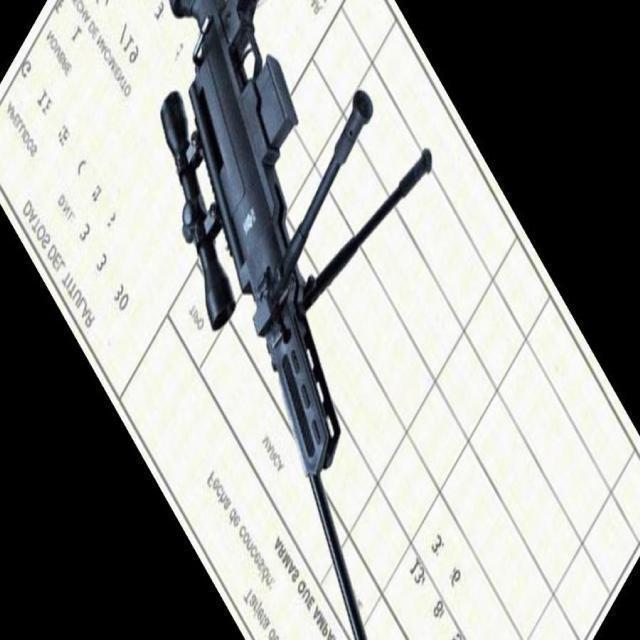Rifle: (160, 0, 432, 640)
